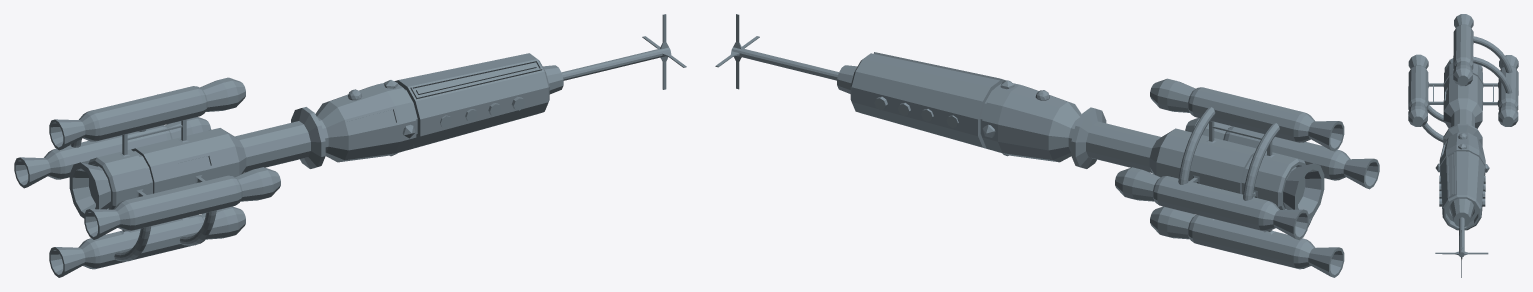
File: command ship.glb
The picture shows the model from 3 angles, left to right: view 1: azimuth 30°, elevation 25°; view 2: azimuth 150°, elevation 25°; view 3: azimuth 270°, elevation 25°; orthographic projection. The views are drawn at different scales.
Visible parts, largest first — view 1: Torus.002; view 2: Torus.002; view 3: Torus.002.
Boxes of the visible parts, x1,y1,x2,y2 form: Torus.002: [14, 14, 686, 277]; Torus.002: [715, 14, 1379, 277]; Torus.002: [1408, 14, 1518, 277].
Size of the model in its own units: 14.04 by 3.42 by 3.44.
